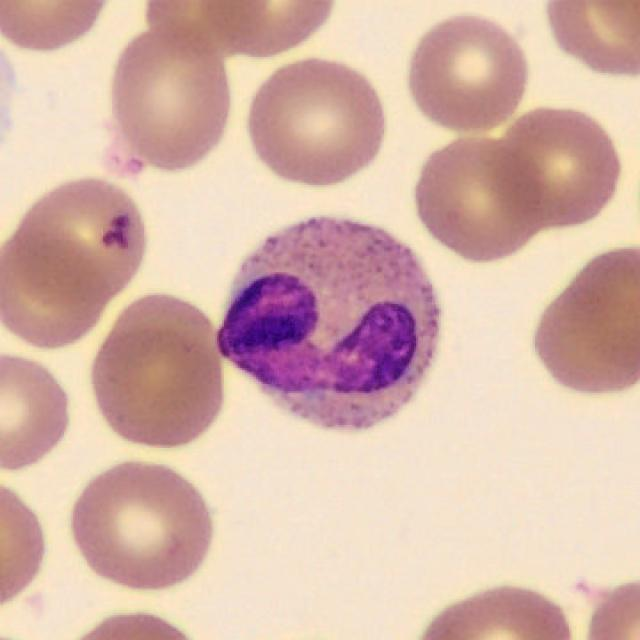Bastonete: (217, 217, 441, 432)
